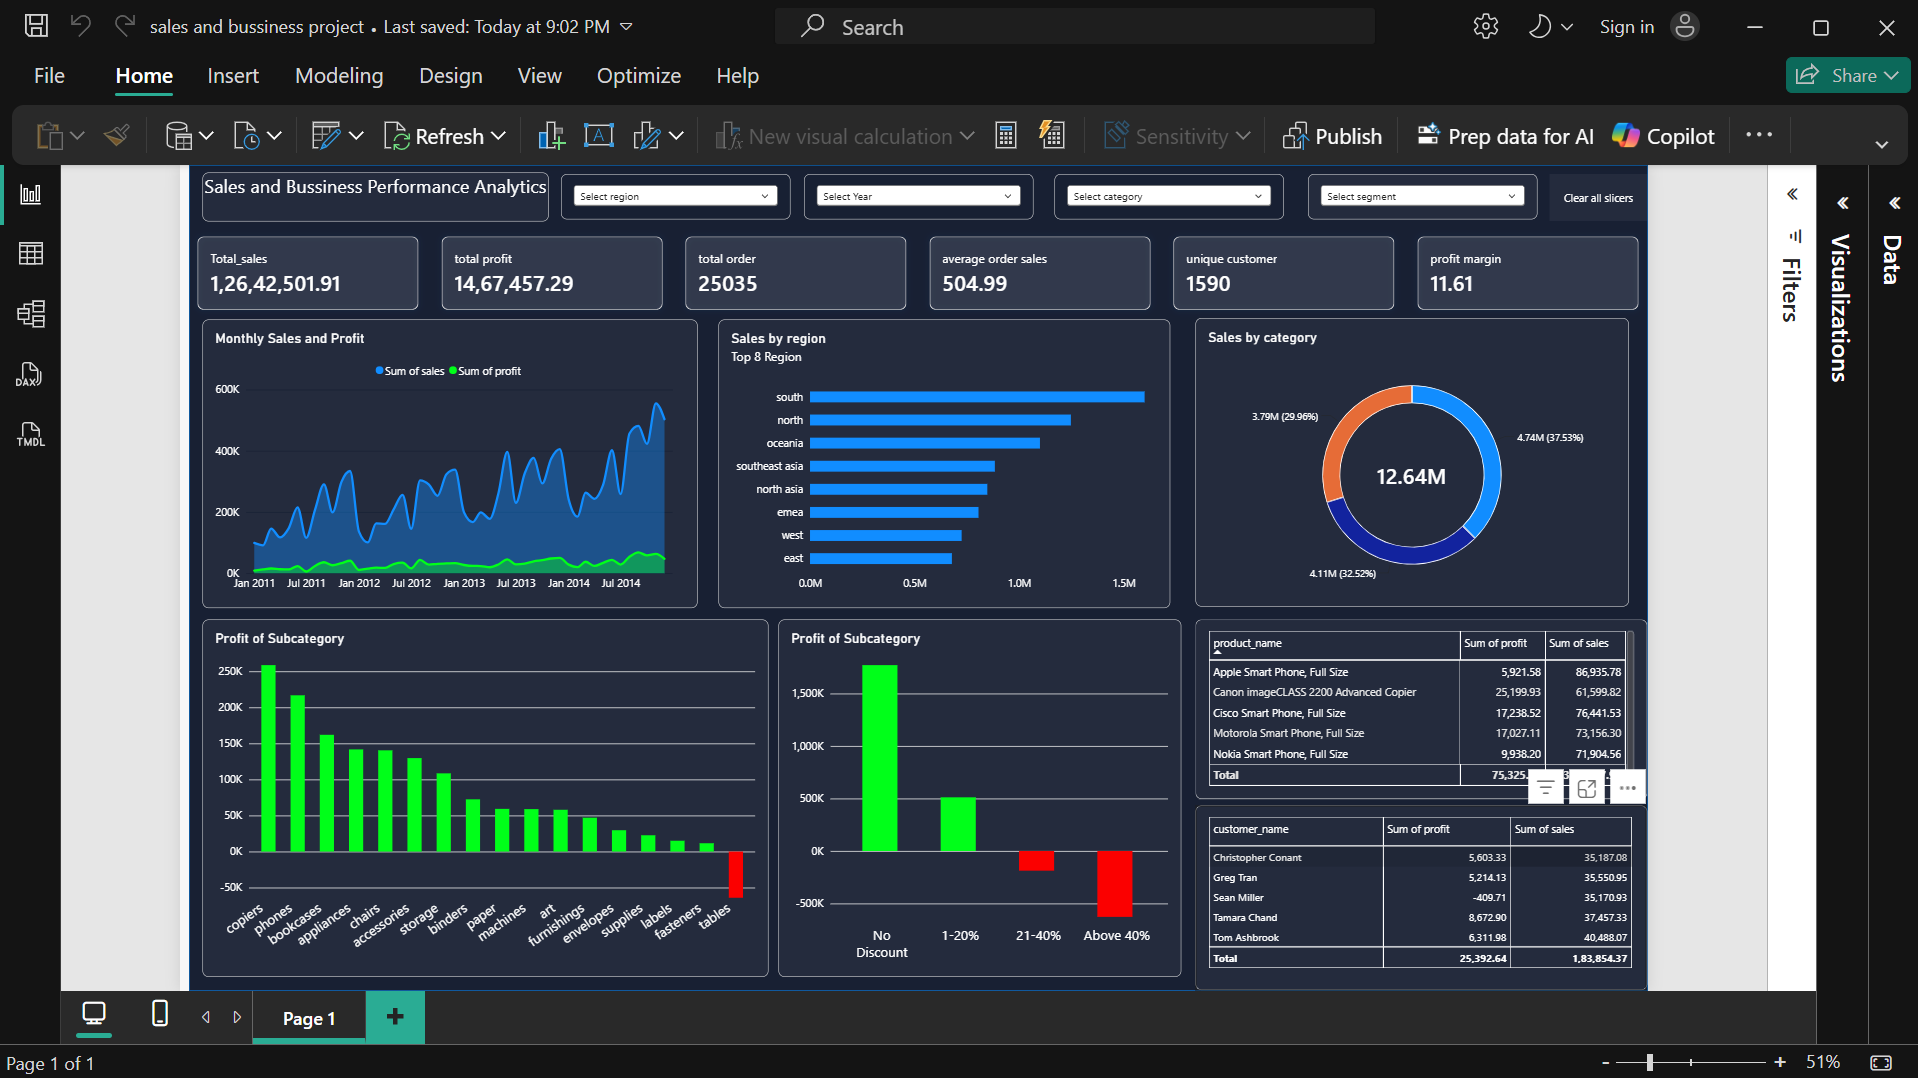

What the dashboard file says about the page in this screenshot:
{"tool":"powerbi","page":{"name":"Page 1","canvas":[1920,1080],"ordinal":0},"visuals":[{"type":"shape","box":[11.3,0,1907.7,1080],"z":0},{"type":"areaChart","title":"Monthly Sales and Profit","fields":{"Category":["superstore_cleaned.Start of Month.Variation.Date Hierarchy.Year","superstore_cleaned.Start of Month.Variation.Date Hierarchy.Quarter","superstore_cleaned.Start of Month.Variation.Date Hierarchy.Month","superstore_cleaned.Start of Month.Variation.Date Hierarchy.Day"],"Y":["Sum(superstore_cleaned.sales)","Sum(superstore_cleaned.profit)"]},"box":[28.5,201.6,647.4,377],"z":1000},{"type":"clusteredBarChart","title":"Sales by region","fields":{"Category":["superstore_cleaned.region"],"Y":["Sum(superstore_cleaned.sales)"]},"box":[704.3,201.6,590.5,377],"z":2000},{"type":"donutChart","title":"Sales by category","fields":{"Category":["superstore_cleaned.category"],"Y":["Sum(superstore_cleaned.sales)"]},"box":[1328,199.2,566.8,377],"z":3000},{"type":"clusteredColumnChart","title":"Profit of Subcategory","fields":{"Category":["superstore_cleaned.sub_category"],"Y":["Sum(superstore_cleaned.profit)"]},"box":[28.5,595.2,739.9,467.2],"z":4000},{"type":"clusteredColumnChart","title":"Profit of Subcategory","fields":{"Category":["superstore_cleaned.Discount Level"],"Y":["Sum(superstore_cleaned.profit)"]},"box":[782.6,595.2,526.4,467.2],"z":5000},{"type":"tableEx","fields":{"Values":["superstore_cleaned.product_name","Sum(superstore_cleaned.profit)","Sum(superstore_cleaned.sales)"]},"box":[1328,595.2,590.5,234.8],"z":6000},{"type":"tableEx","fields":{"Values":["superstore_cleaned.customer_name","Sum(superstore_cleaned.profit)","Sum(superstore_cleaned.sales)"]},"box":[1328,837.1,590.5,241.3],"z":7000},{"type":"cardVisual","fields":{"Data":["superstore_cleaned.Total_sales","superstore_cleaned.total profit","superstore_cleaned.total order","superstore_cleaned.average order value","superstore_cleaned.unique customer","superstore_cleaned.profit margin"]},"box":[11.4,81.9,1907.9,118.2],"z":8000},{"type":"listSlicer","fields":{"Values":["superstore_cleaned.category"]},"box":[1143,11.9,300.2,59.1],"z":9000},{"type":"listSlicer","fields":{"Values":["superstore_cleaned.region"]},"box":[498,11.9,300.2,59.1],"z":10000},{"type":"listSlicer","fields":{"Values":["superstore_cleaned.order_date.Variation.Date Hierarchy.Year"]},"box":[815.8,11.9,300.2,59.1],"z":11000},{"type":"listSlicer","fields":{"Values":["superstore_cleaned.segment"]},"box":[1475,11.9,300.2,59.1],"z":12000},{"type":"actionButton","box":[1790.4,11.9,128.1,61.7],"z":13001},{"type":"textbox","box":[28.5,9.5,452.9,64],"z":13002}]}

Visuals, with their boxes on the page's 1920x1080 design canvas (x1, y1, x2, y2). These are canvas units, not pixel positions in the 1918x1078 screenshot, which may show the page scaled, cropped or inside an application window:
shape: bbox=(11, 0, 1919, 1080)
"Monthly Sales and Profit" areaChart: bbox=(28, 202, 676, 579)
"Sales by region" clusteredBarChart: bbox=(704, 202, 1295, 579)
"Sales by category" donutChart: bbox=(1328, 199, 1895, 576)
"Profit of Subcategory" clusteredColumnChart: bbox=(28, 595, 768, 1062)
"Profit of Subcategory" clusteredColumnChart: bbox=(783, 595, 1309, 1062)
tableEx - superstore_cleaned.product_name x Sum(superstore_cleaned.profit): bbox=(1328, 595, 1918, 830)
tableEx - superstore_cleaned.customer_name x Sum(superstore_cleaned.profit): bbox=(1328, 837, 1918, 1078)
cardVisual - superstore_cleaned.Total_sales x superstore_cleaned.total profit: bbox=(11, 82, 1919, 200)
listSlicer - superstore_cleaned.category: bbox=(1143, 12, 1443, 71)
listSlicer - superstore_cleaned.region: bbox=(498, 12, 798, 71)
listSlicer - superstore_cleaned.order_date.Variation.Date Hierarchy.Year: bbox=(816, 12, 1116, 71)
listSlicer - superstore_cleaned.segment: bbox=(1475, 12, 1775, 71)
actionButton: bbox=(1790, 12, 1918, 74)
textbox: bbox=(28, 10, 481, 74)
